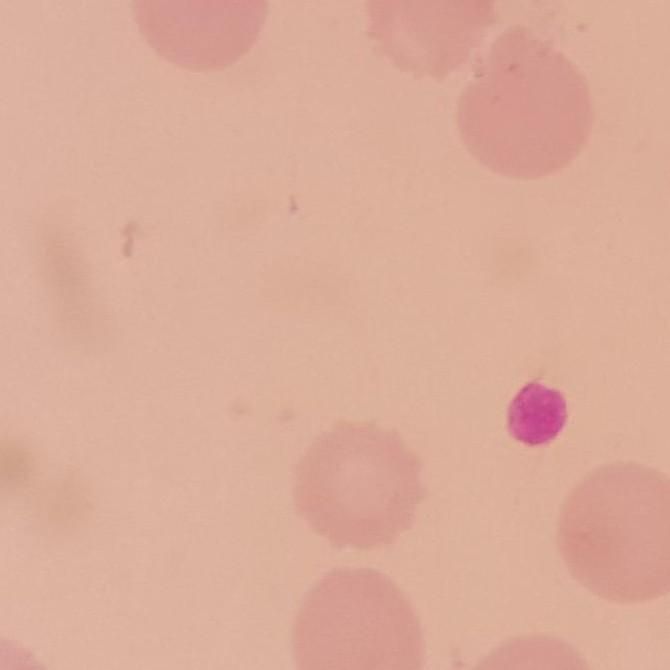Uninfected: (461, 22, 587, 178), (294, 420, 425, 554), (559, 463, 670, 602), (291, 563, 425, 670), (120, 0, 275, 72), (357, 0, 493, 82)
